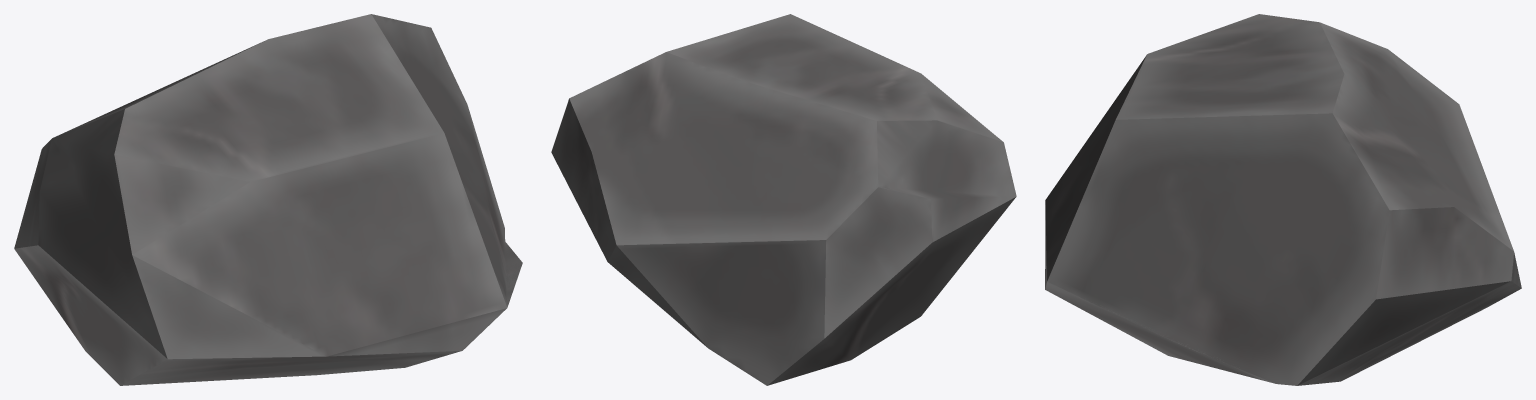
The model's file is rock_tiny.glb.
The picture shows the model from 3 angles, left to right: view 1: azimuth 30°, elevation 25°; view 2: azimuth 150°, elevation 25°; view 3: azimuth 270°, elevation 25°; orthographic projection. The views are drawn at different scales.
Parts seen in each view (by area): view 1: Cube.006; view 2: Cube.006; view 3: Cube.006.
Part boxes in pixels (x1,y1,x2,y2): Cube.006: [14, 14, 522, 385]; Cube.006: [551, 14, 1016, 385]; Cube.006: [1045, 14, 1521, 385].
Size of the model in its own units: 1.08 by 0.7313 by 1.03.
Materials: 1 (1 with a texture image).
